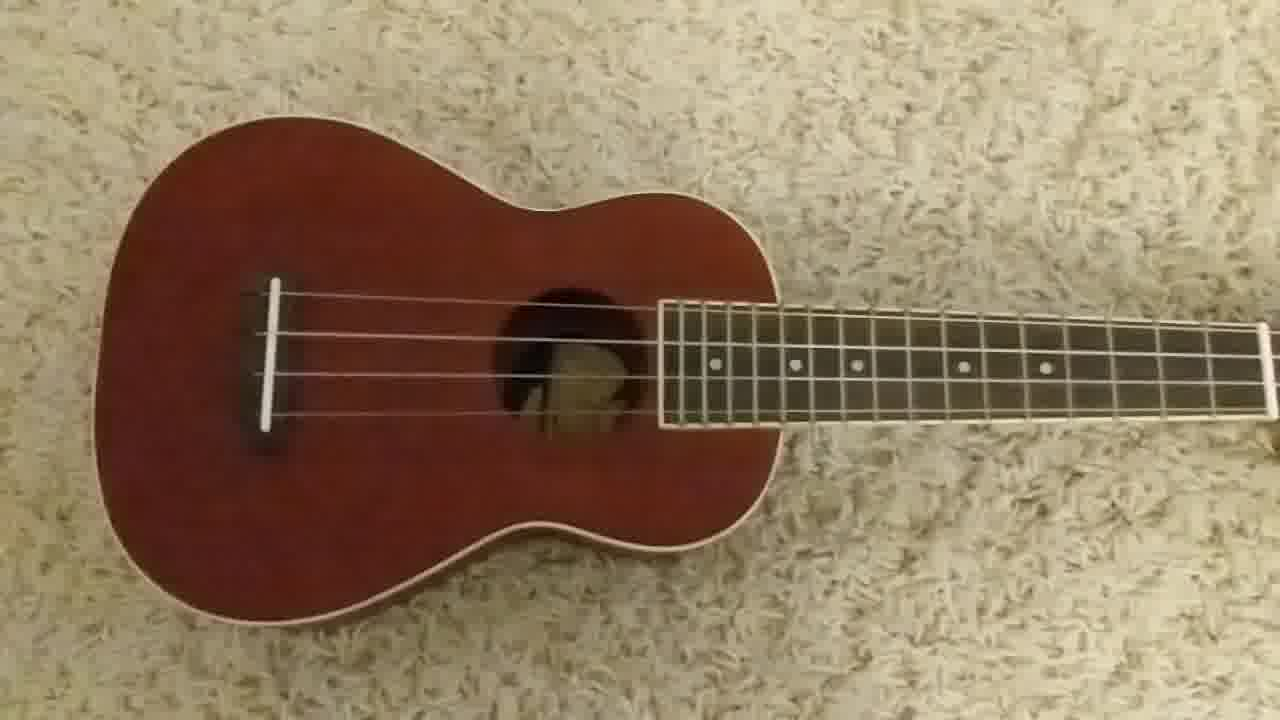Body: (90, 111, 795, 634)
Bridge: (244, 270, 301, 440)
